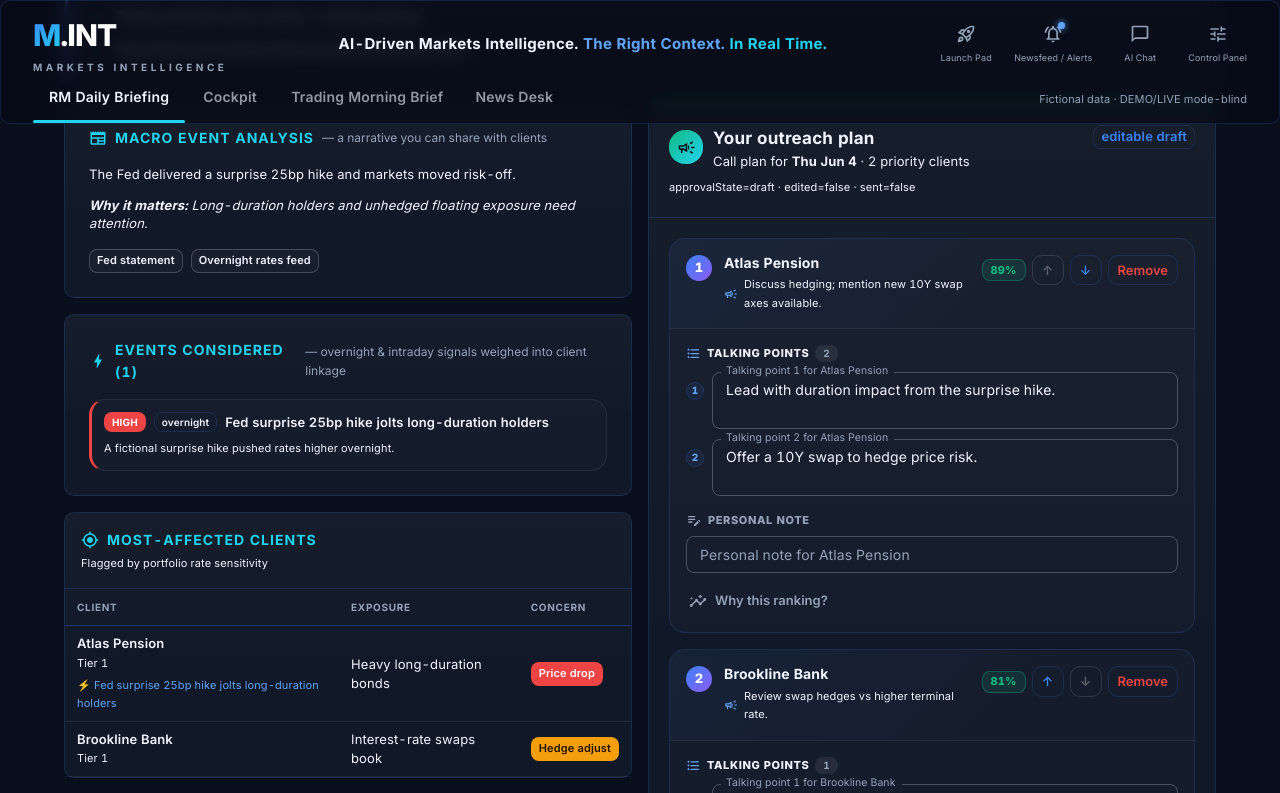
MorningBriefScene call plan › updates the editable plan and marks it edited when a talking point changes and a client is removed
(page scrolled)
expect the text "approvalState=draft · edited=false · sent=false" is shown: met, box [669,180,916,194]
Replace the text in the text box labelled "Talking point 1 for Atlas Pension" with "Ask about their Q3 reallocation." at (945, 400), box [726,380,1164,420]
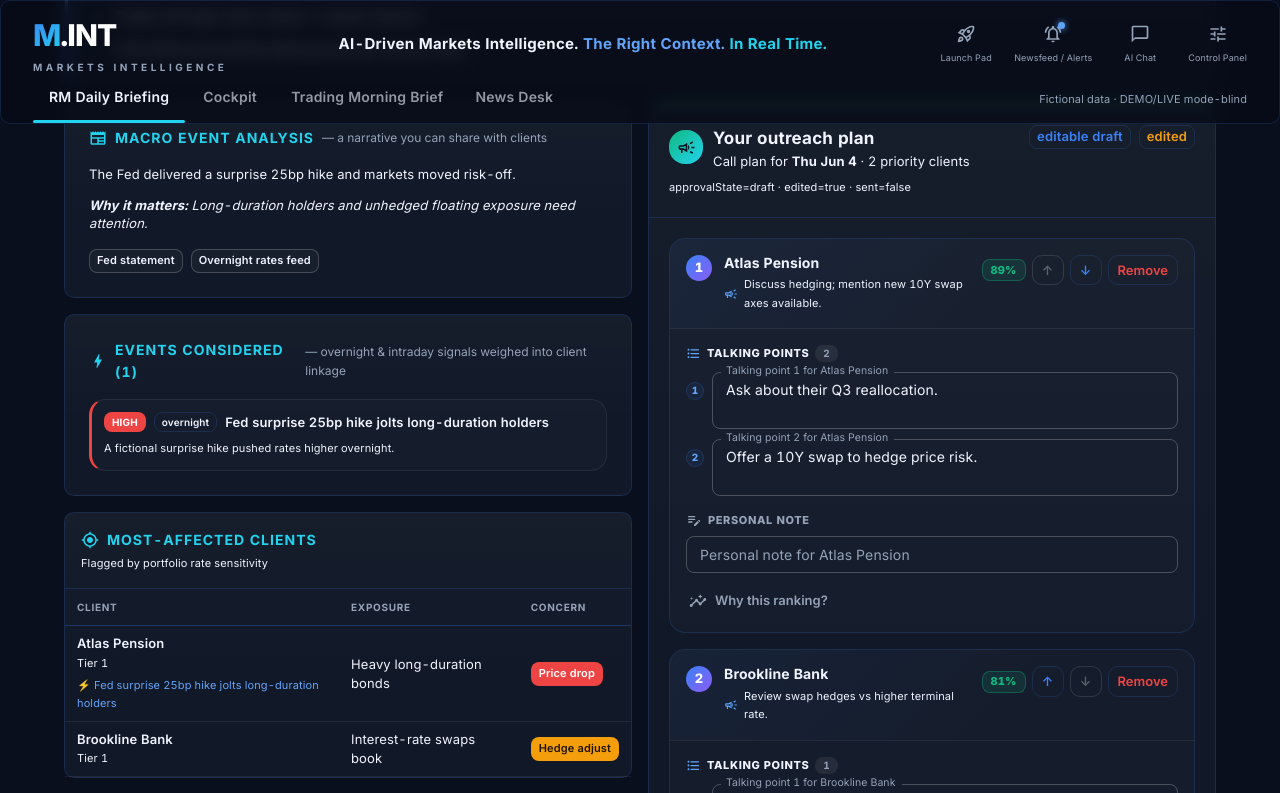
expect the text "Call plan for Thu Jun 4 · 2 priority clients" is shown: met, box [713,152,970,170]
expect the text with test id "call-plan-status" shows "edited=true": met, box [669,180,911,194]
Click the button with aria-label "remove brookline bank from plan" at (1143, 682), box [1108,666,1178,697]
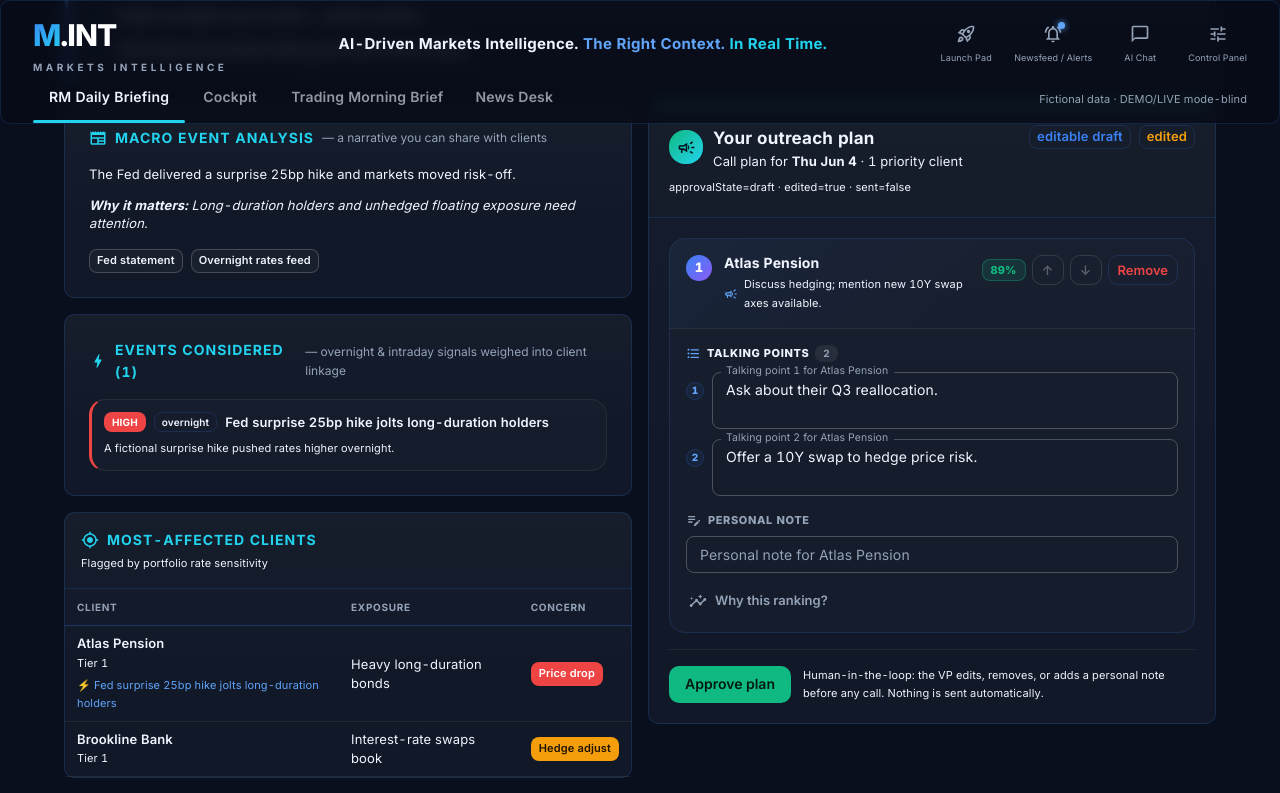
expect the text with test id "call-plan-status" shows "edited=true": met, box [669,180,911,194]
expect the text "Call plan for Thu Jun 4 · 1 priority client" is shown: met, box [713,152,963,170]
